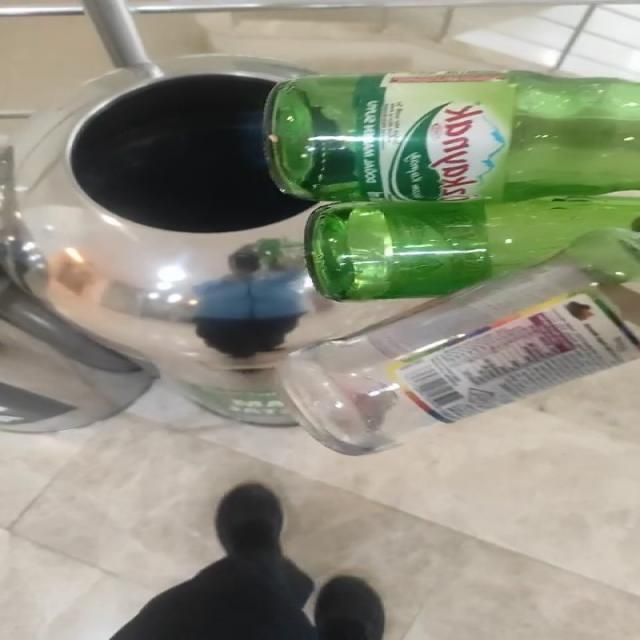Glass: (265, 70, 639, 456)
